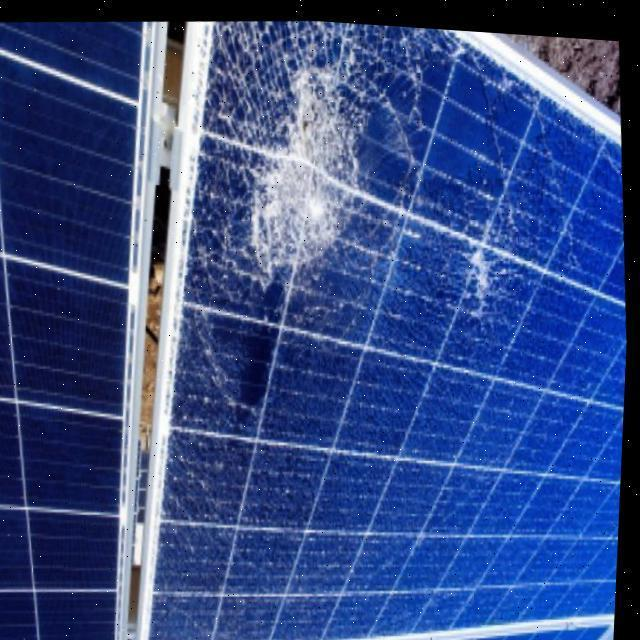Anomaly Solar Panel: (132, 16, 629, 640)
Structural Damage: (208, 17, 397, 294), (433, 203, 552, 340)
